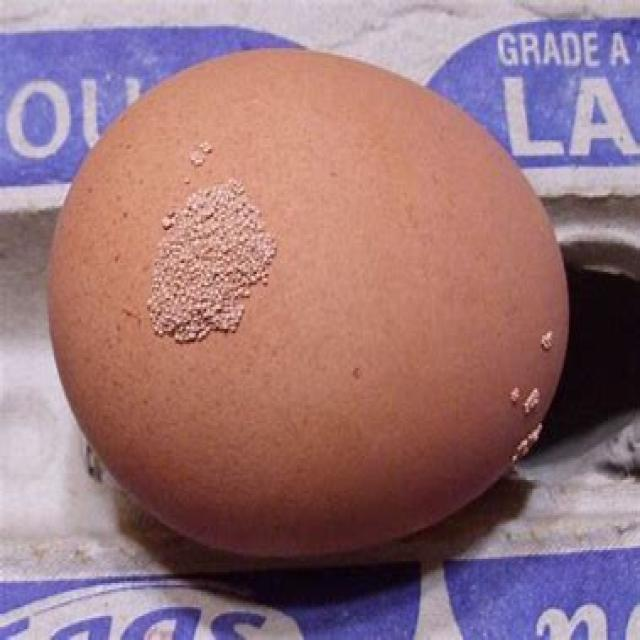Calcium Deposit Egg: (34, 34, 586, 585)
